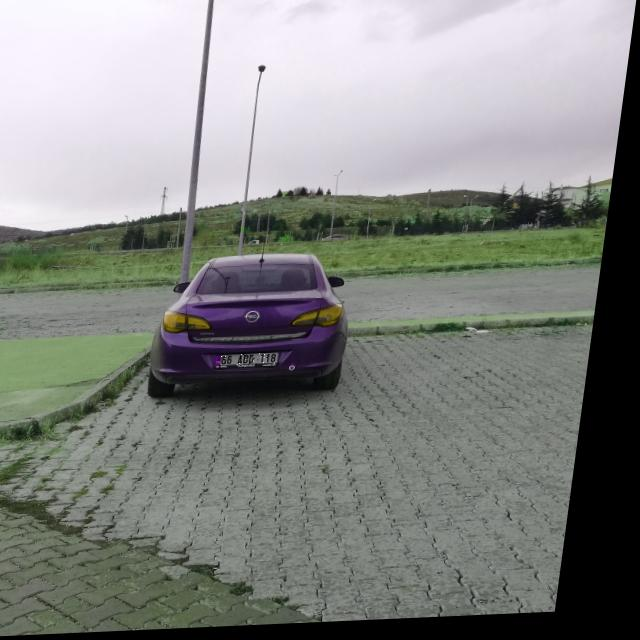license_plate: (227, 355, 289, 369)
